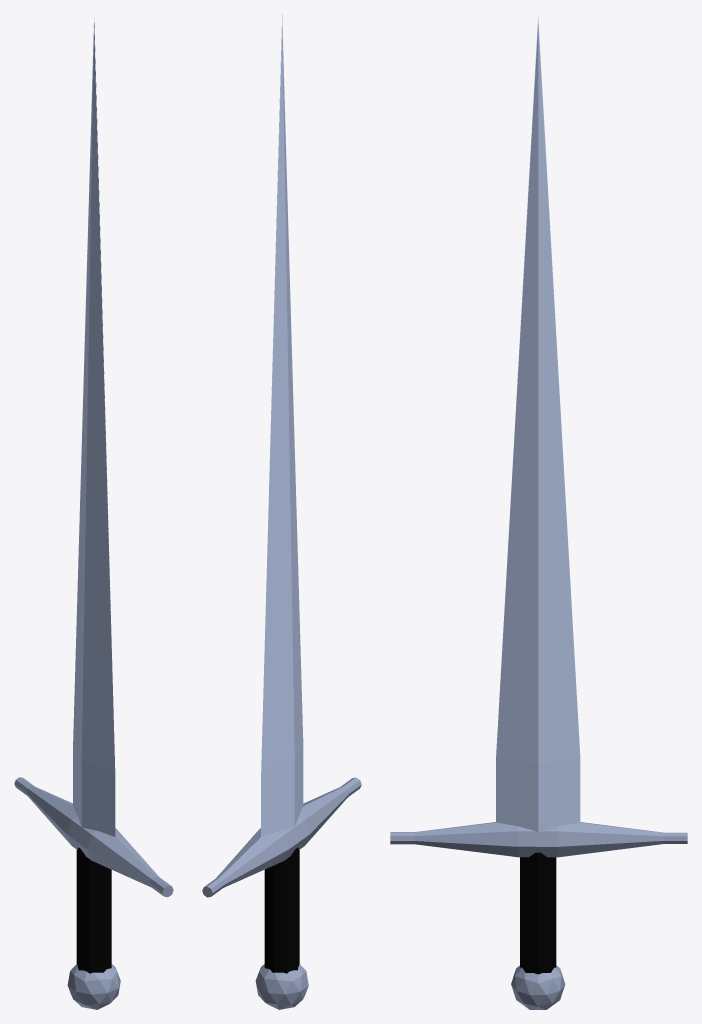
Rendered from test_sword.glb.
The picture shows the model from 3 angles, left to right: view 1: azimuth 30°, elevation 25°; view 2: azimuth 150°, elevation 25°; view 3: azimuth 270°, elevation 25°; orthographic projection.
Visible parts, largest first — view 1: Cylinder.002, Cylinder.001, Cylinder, Icosphere; view 2: Cylinder.002, Cylinder.001, Cylinder, Icosphere; view 3: Cylinder.002, Cylinder.001, Cylinder, Icosphere.
Boxes of the visible parts, <box> form: Cylinder.002: <box>73,16,115,836</box>; Cylinder.001: <box>14,777,173,897</box>; Cylinder: <box>76,847,111,973</box>; Icosphere: <box>67,964,120,1009</box>; Cylinder.002: <box>261,14,303,836</box>; Cylinder.001: <box>202,777,361,897</box>; Cylinder: <box>264,847,299,973</box>; Icosphere: <box>255,964,308,1009</box>; Cylinder.002: <box>496,15,580,832</box>; Cylinder.001: <box>390,822,687,857</box>; Cylinder: <box>520,852,556,974</box>; Icosphere: <box>511,965,565,1009</box>.
Size of the model in its own units: 0.416 by 8.82 by 2.39.
